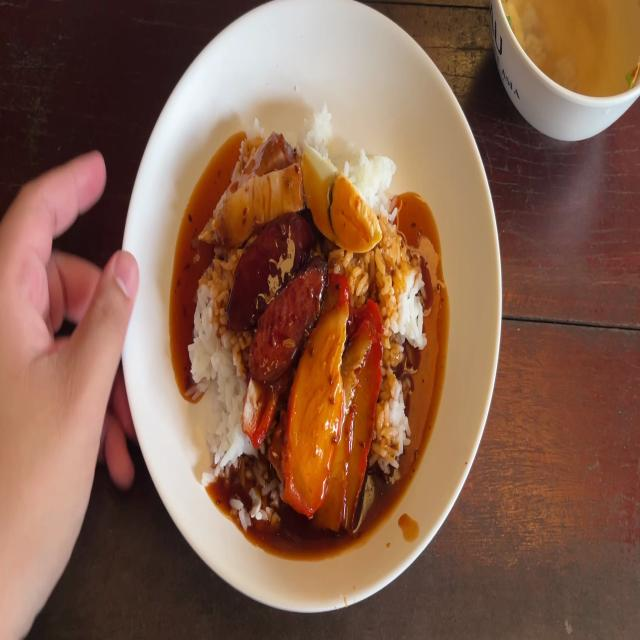01boiled_egg: (299, 139, 378, 256)
01chainese_sausage: (229, 214, 331, 372)
01crispy_pork: (208, 130, 296, 233)
01red_pork: (288, 289, 381, 518)
01red_pork_and_crispy_pork: (188, 109, 433, 523)
01rice: (384, 212, 419, 467), (190, 269, 228, 394), (204, 366, 239, 472), (362, 128, 392, 202)
